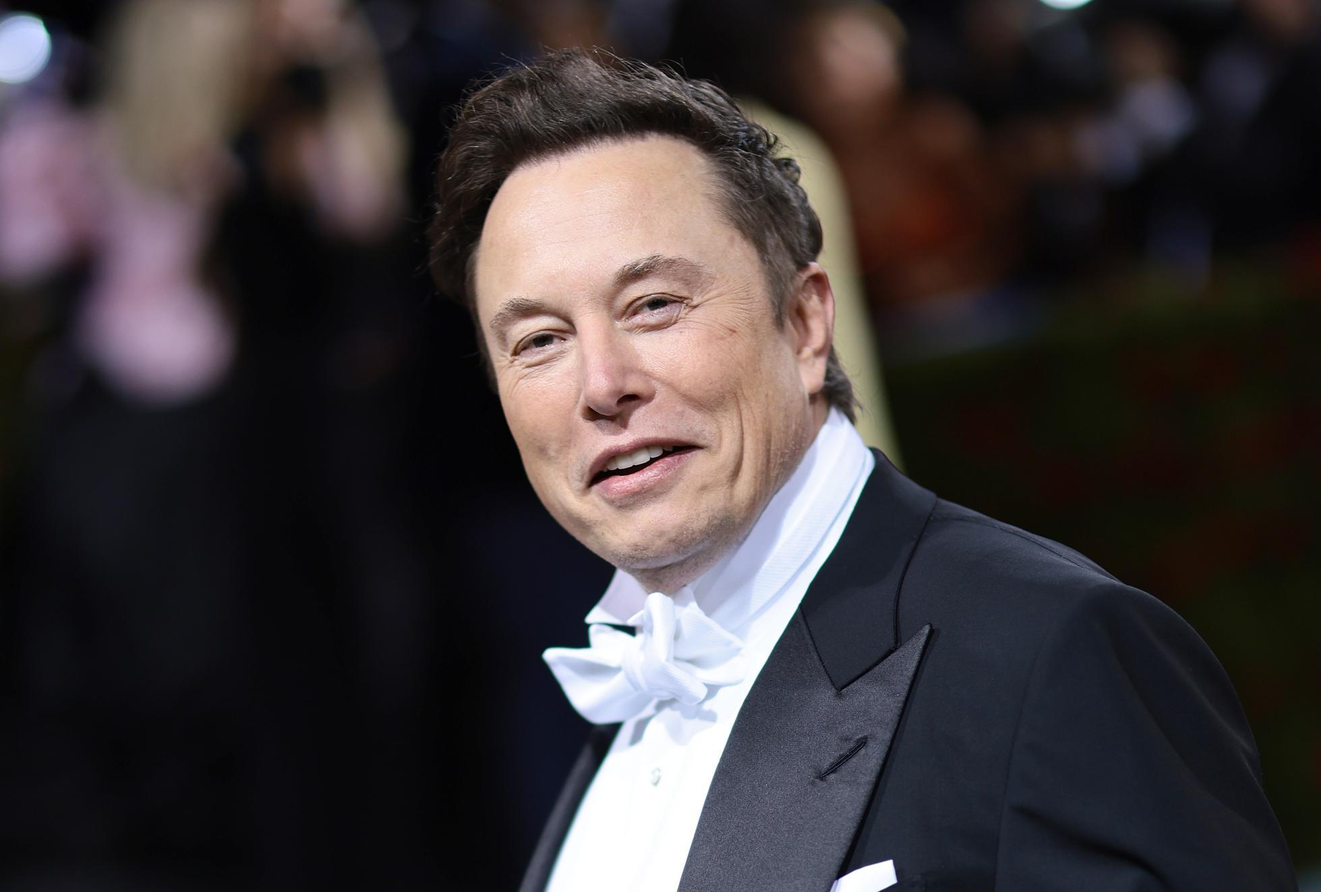Persons: (403, 46, 860, 596)
